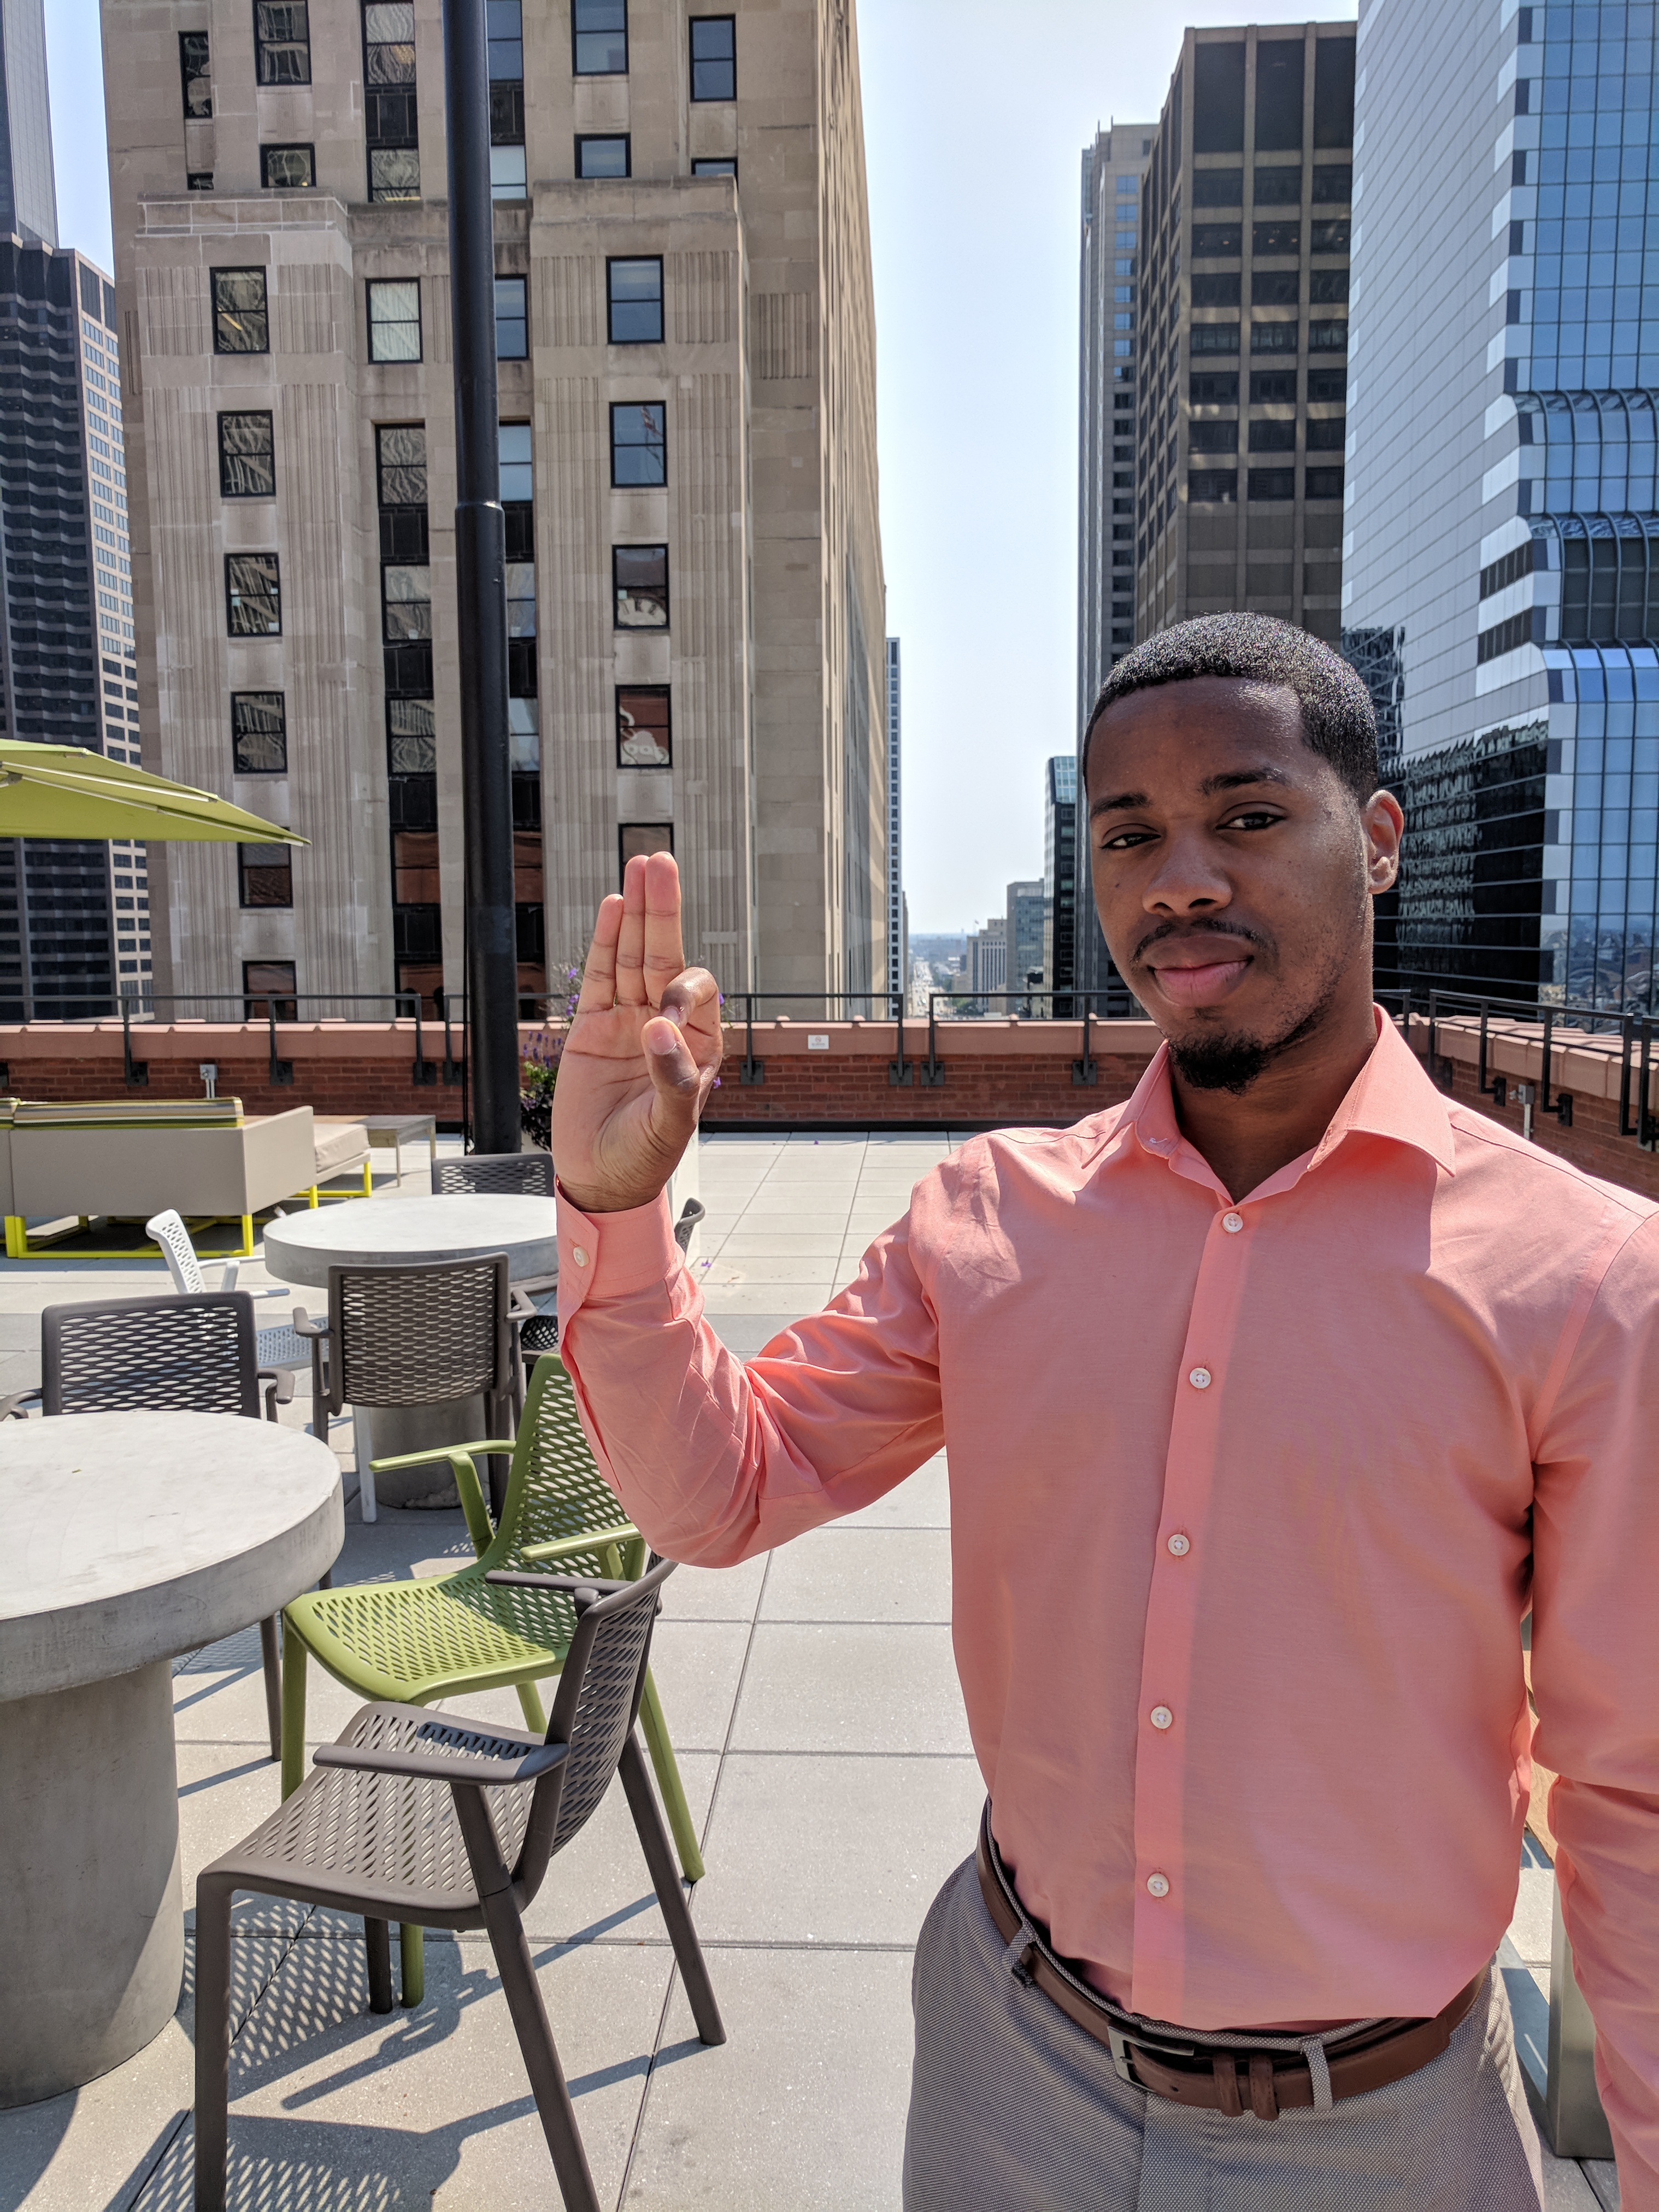f: (551, 845, 739, 1212)
